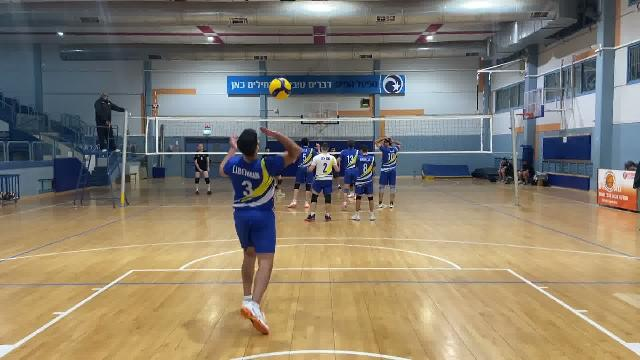ball: (265, 75, 295, 98)
